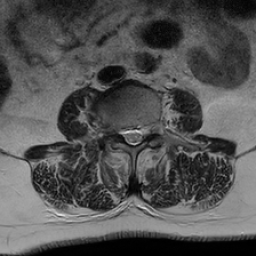CCS_normal: (129, 117, 137, 152)
LFS_normal: (146, 115, 156, 142)
LLS_normal: (137, 116, 146, 147)
RFS_stenosis: (113, 117, 121, 144)
RLS_normal: (121, 118, 129, 148)
